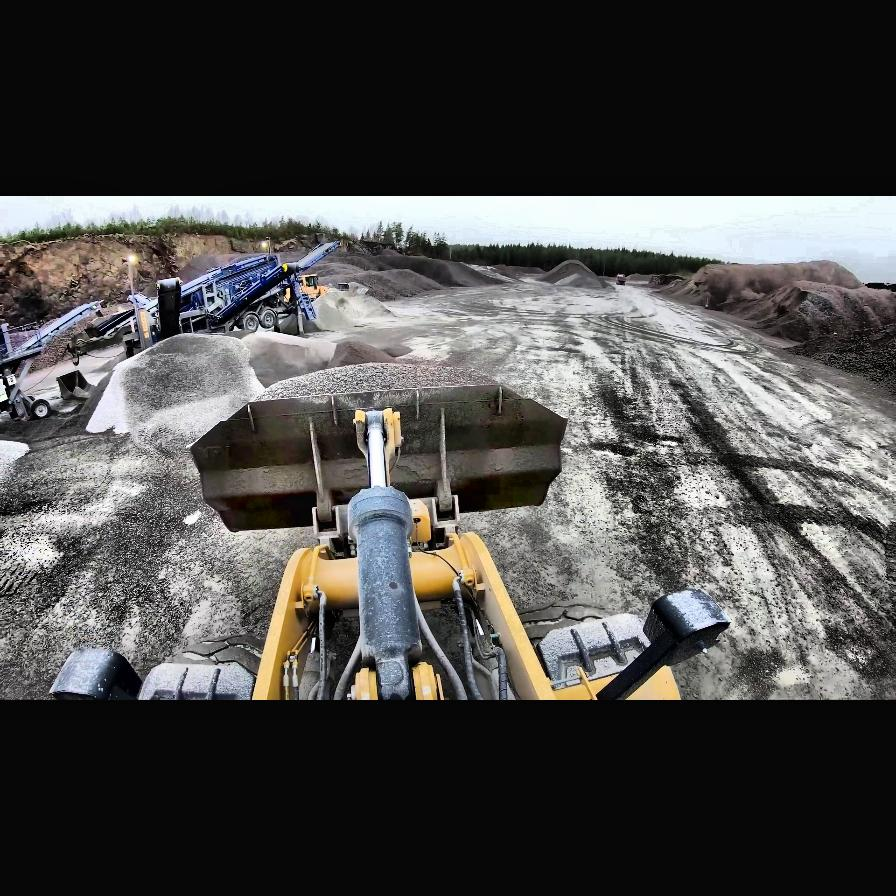anchor: (352, 406, 404, 486)
pile of gravel: (82, 328, 447, 458), (638, 256, 896, 352), (248, 328, 404, 378), (372, 254, 496, 290), (316, 286, 396, 324), (538, 259, 598, 285)
